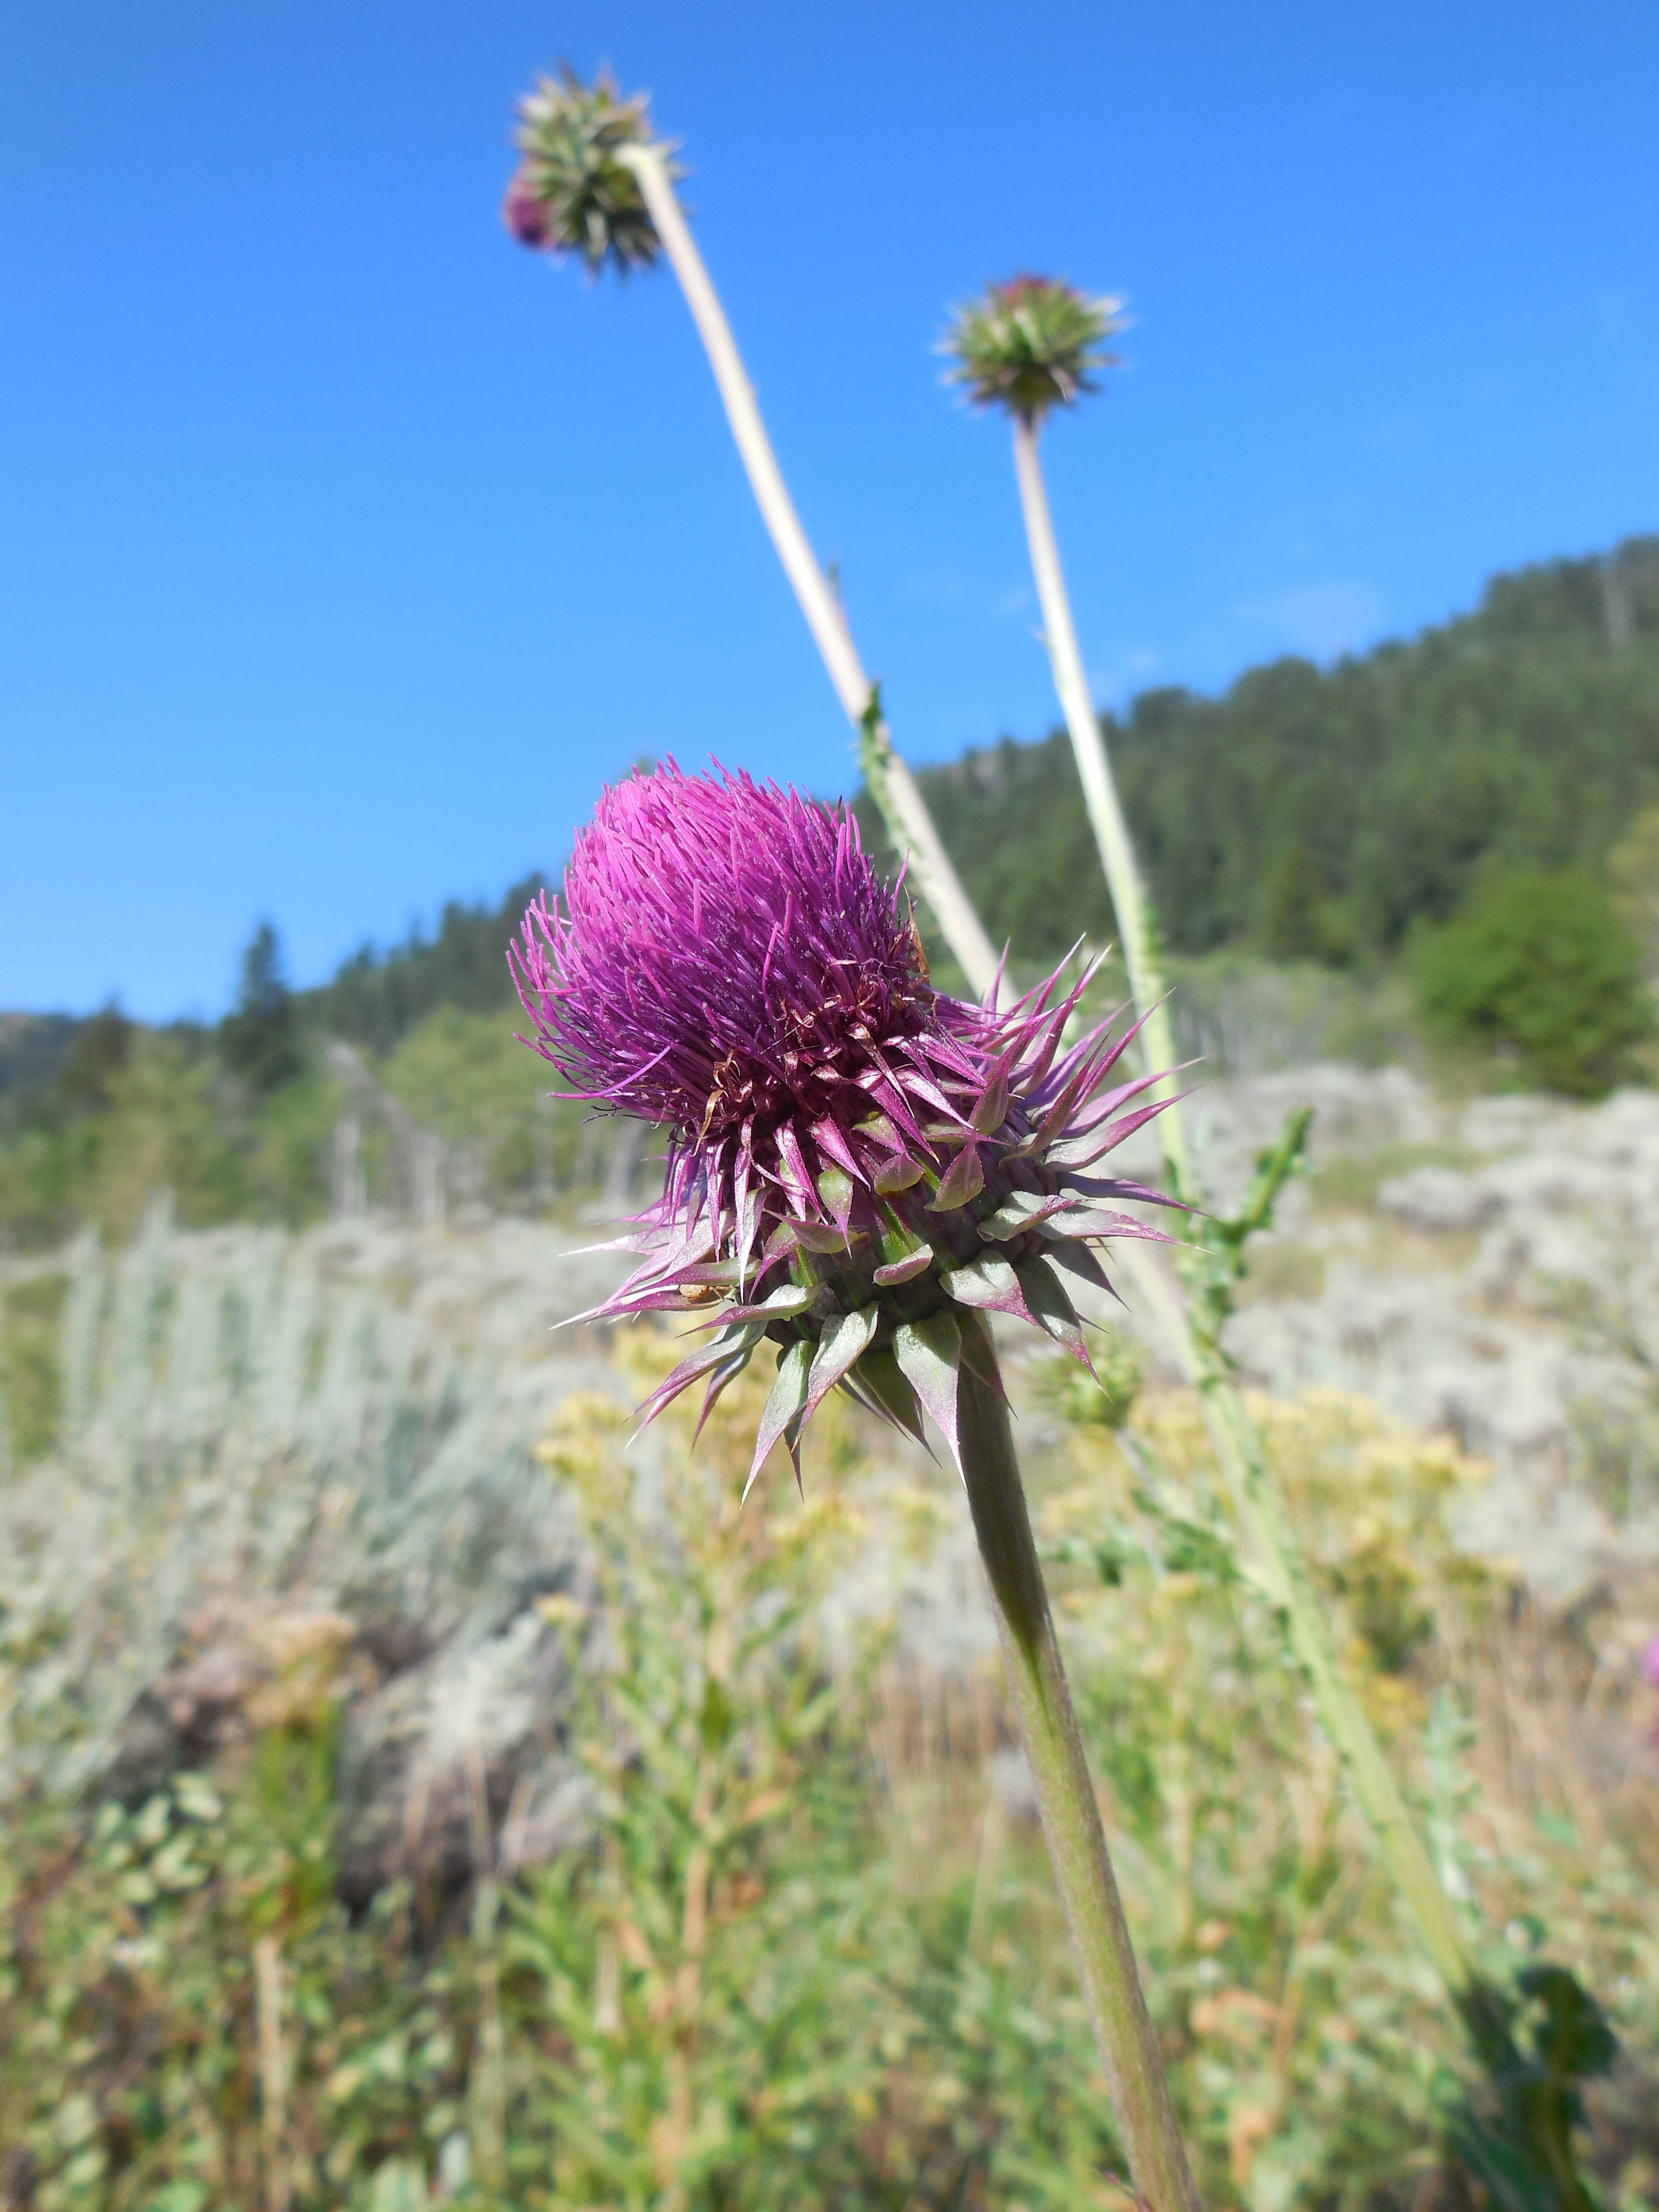thistle: (464, 803, 1227, 1411), (472, 40, 716, 277), (948, 247, 1127, 437)
